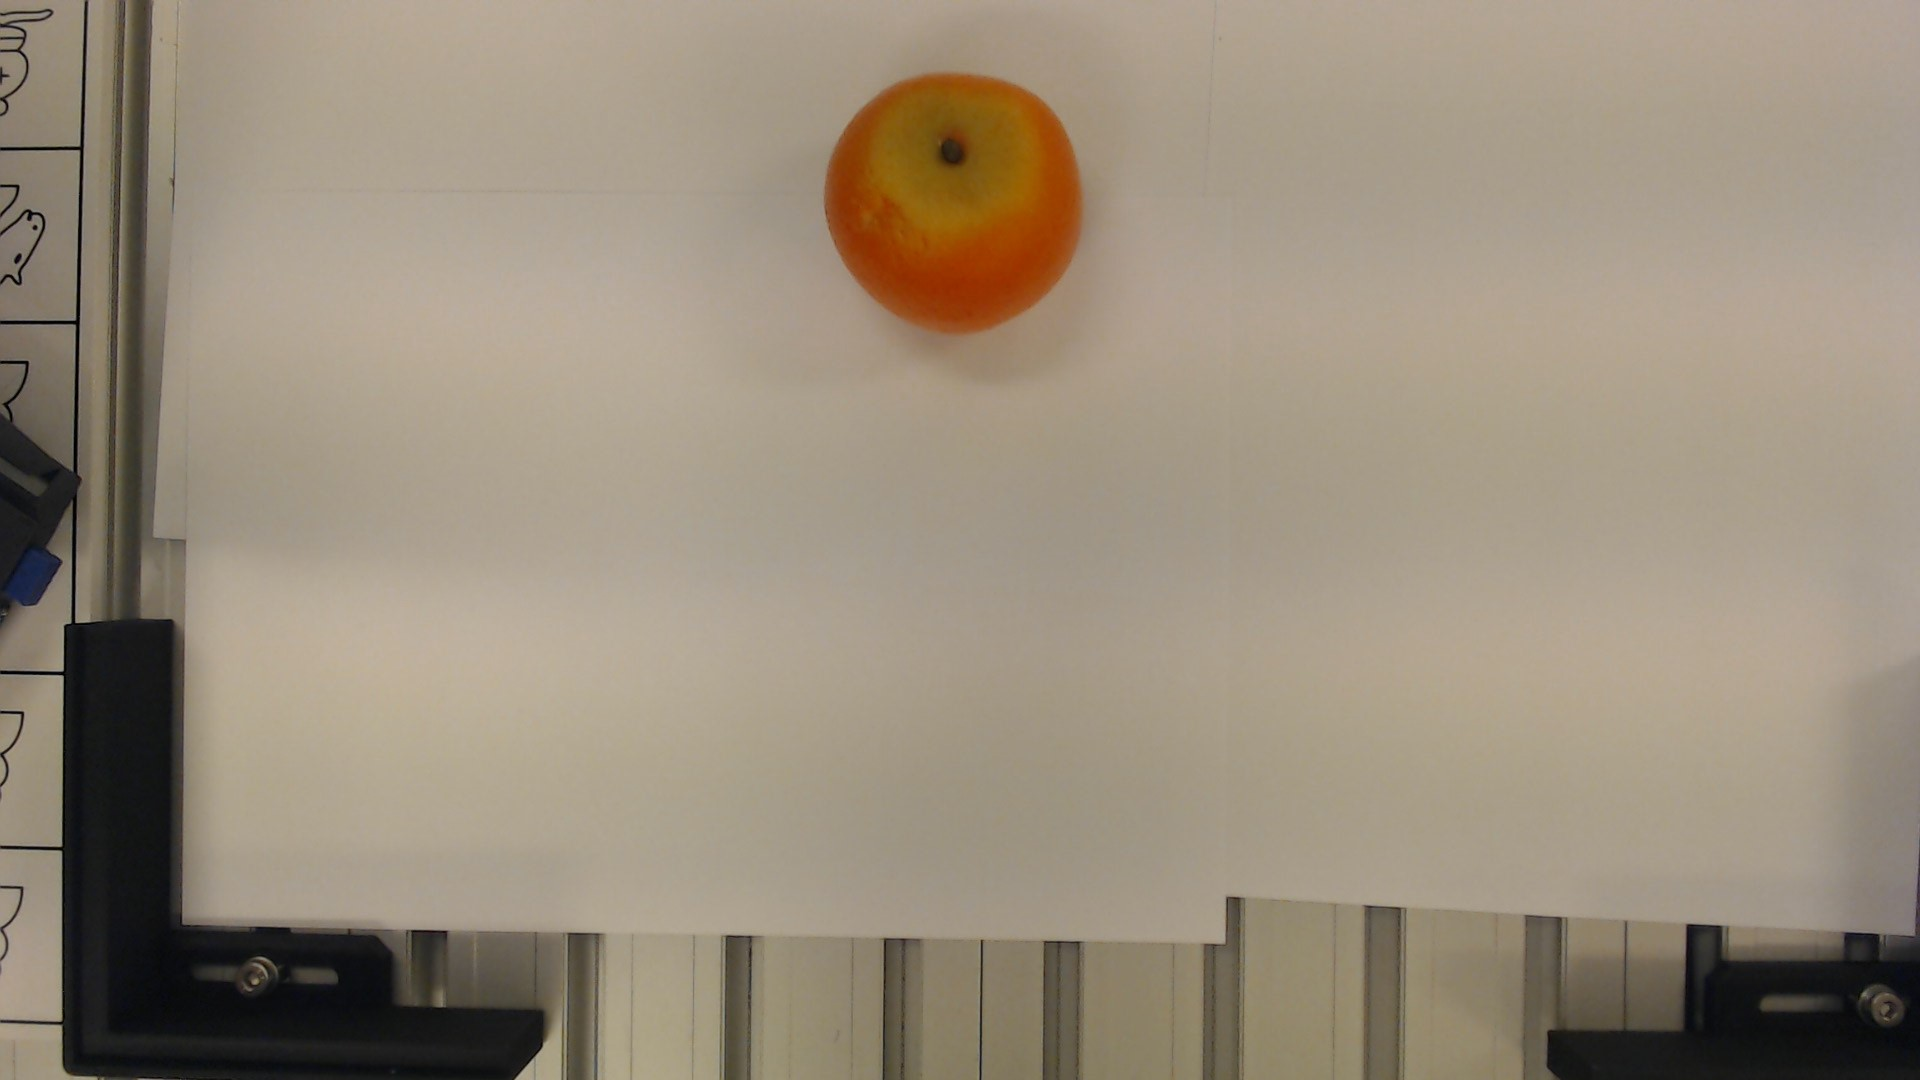Mandarin: (824, 73, 1087, 343)
